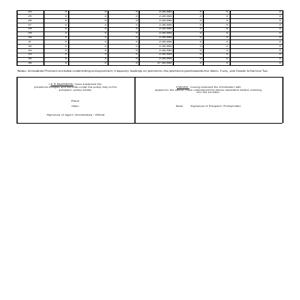table: (18, 9, 285, 65), (17, 76, 284, 124)
